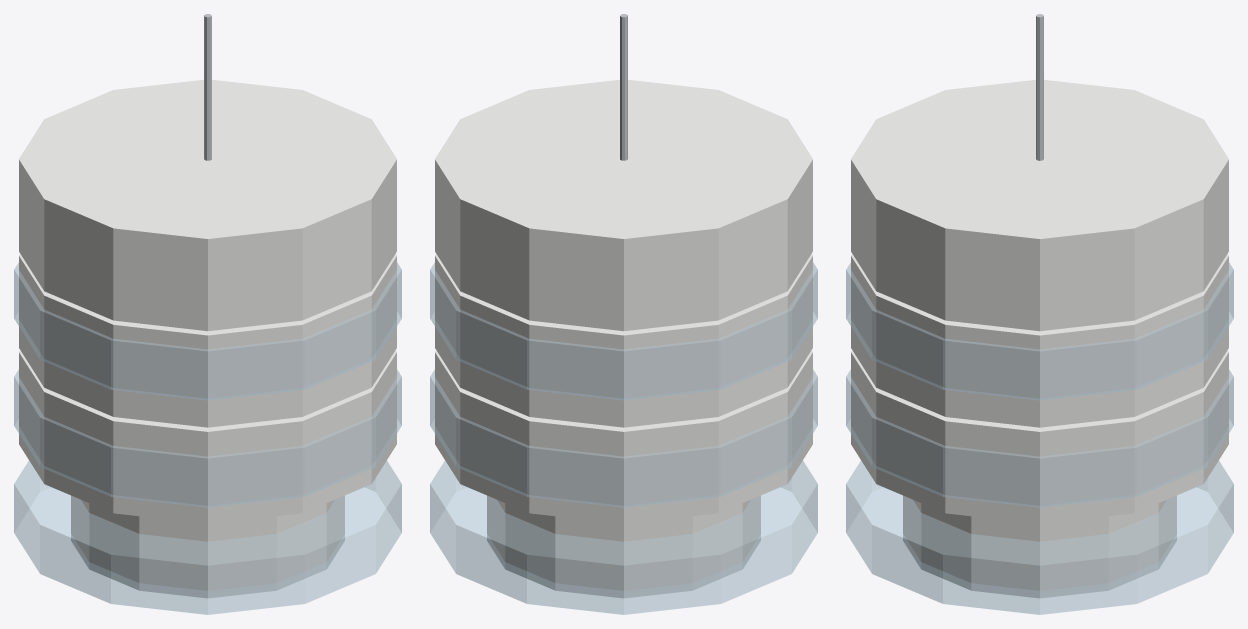
File: tower.glb
3 renders of one model, left to right at view 1: azimuth 30°, elevation 25°; view 2: azimuth 150°, elevation 25°; view 3: azimuth 270°, elevation 25°, orthographic.
Parts seen in each view (by area): view 1: tower, glass, steel; view 2: tower, glass, steel; view 3: tower, glass, steel.
Boxes of the visible parts, x1,y1,x2,y2 form: tower: (19,79,396,598); glass: (14,262,401,614); steel: (204,14,211,160); tower: (435,79,812,598); glass: (430,262,817,614); steel: (620,14,627,160); tower: (851,79,1228,598); glass: (846,262,1233,614); steel: (1036,14,1043,160).
Size of the model in its own units: 16.4 by 24.5 by 16.4.
